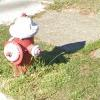a fire hydrant: (4, 11, 42, 80)
